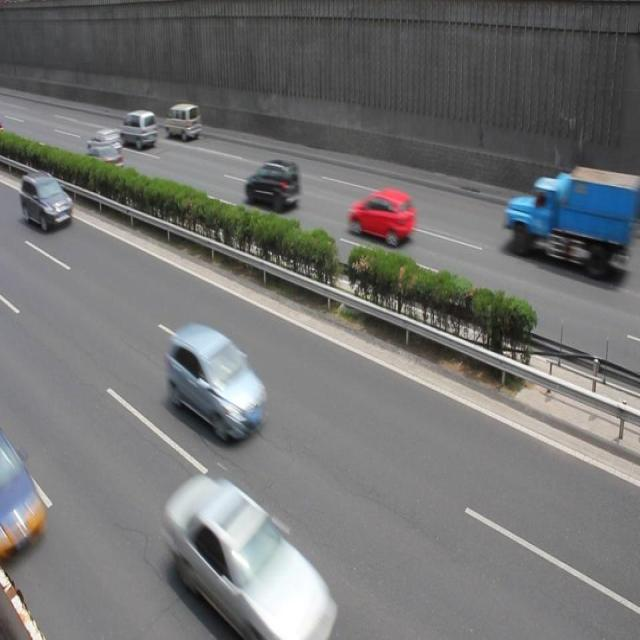bus: (501, 166, 640, 276)
car: (164, 474, 337, 632), (166, 324, 266, 439), (346, 188, 414, 246), (22, 172, 74, 232), (244, 158, 300, 210), (84, 144, 124, 180), (87, 127, 121, 155)
truck: (118, 110, 158, 150), (163, 104, 202, 142)
